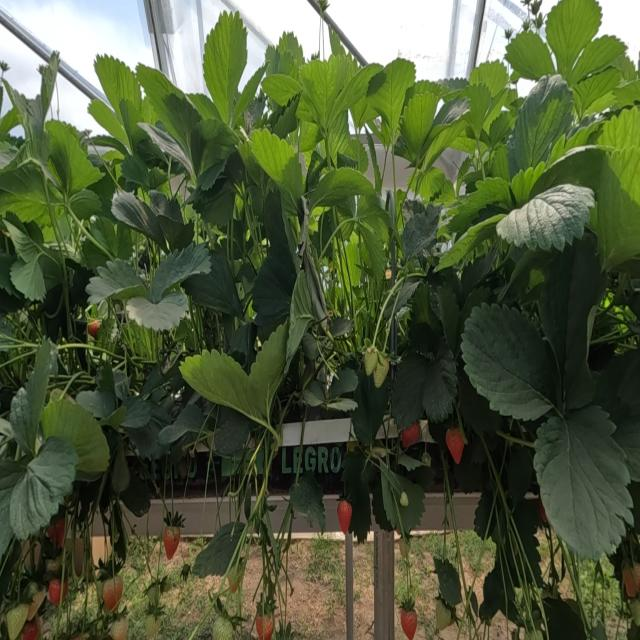Leaves: (534, 408, 631, 560), (462, 305, 558, 419), (565, 238, 607, 408), (10, 437, 77, 538), (507, 75, 573, 177), (137, 65, 199, 170), (498, 184, 593, 250), (591, 145, 640, 270), (593, 350, 639, 483), (9, 339, 57, 454), (43, 397, 110, 475), (203, 10, 247, 125), (181, 350, 253, 416), (538, 244, 573, 376), (546, 0, 601, 76), (247, 323, 290, 419), (300, 55, 355, 130), (46, 121, 99, 198), (185, 246, 242, 315), (369, 58, 415, 143), (252, 255, 295, 339), (150, 243, 209, 299), (380, 460, 425, 533), (251, 130, 303, 193), (391, 350, 430, 430), (458, 361, 500, 435), (95, 55, 140, 124), (0, 164, 50, 226), (138, 123, 194, 178), (112, 191, 165, 247), (568, 35, 626, 86), (351, 374, 390, 444), (287, 271, 317, 361), (342, 448, 371, 541), (0, 458, 26, 560), (193, 524, 243, 576), (309, 168, 374, 208), (401, 93, 438, 162), (457, 178, 510, 226), (333, 64, 380, 118), (127, 290, 187, 331), (86, 260, 143, 303), (505, 31, 554, 79), (513, 499, 541, 583), (263, 193, 294, 267), (423, 355, 455, 423), (290, 471, 326, 531), (158, 403, 204, 448), (431, 284, 460, 353), (597, 107, 640, 151), (404, 205, 439, 258), (89, 100, 129, 146), (544, 597, 586, 639), (214, 405, 248, 455), (4, 217, 40, 263), (124, 420, 165, 459), (90, 217, 129, 257), (463, 82, 491, 137), (336, 232, 361, 293), (39, 52, 59, 127), (479, 560, 504, 619), (507, 447, 533, 503), (359, 228, 387, 280), (470, 60, 507, 99), (120, 469, 150, 517), (358, 196, 390, 241), (323, 110, 349, 165), (11, 258, 44, 299), (408, 167, 447, 201), (434, 557, 461, 605), (460, 286, 491, 327), (262, 74, 299, 106), (76, 389, 115, 418), (474, 489, 496, 539), (149, 190, 182, 222), (111, 440, 130, 495), (433, 99, 470, 126), (121, 155, 151, 188), (70, 190, 101, 219), (122, 397, 151, 427), (82, 239, 111, 269), (395, 279, 419, 315), (488, 111, 512, 147)
Strawberries: (26, 581, 46, 621), (6, 604, 27, 638), (103, 576, 123, 611), (446, 426, 464, 463), (228, 557, 245, 594), (622, 564, 639, 598), (212, 614, 233, 639), (400, 609, 416, 639), (436, 599, 451, 631), (164, 528, 179, 559), (49, 516, 64, 547), (337, 500, 351, 533), (255, 614, 273, 639), (401, 424, 419, 448), (364, 347, 377, 375), (110, 618, 127, 639), (374, 360, 387, 387), (21, 620, 39, 639), (145, 614, 158, 639), (48, 580, 61, 605), (147, 584, 159, 609), (630, 598, 640, 627), (527, 1, 542, 15), (398, 539, 409, 558), (87, 322, 99, 338), (400, 491, 409, 506)
